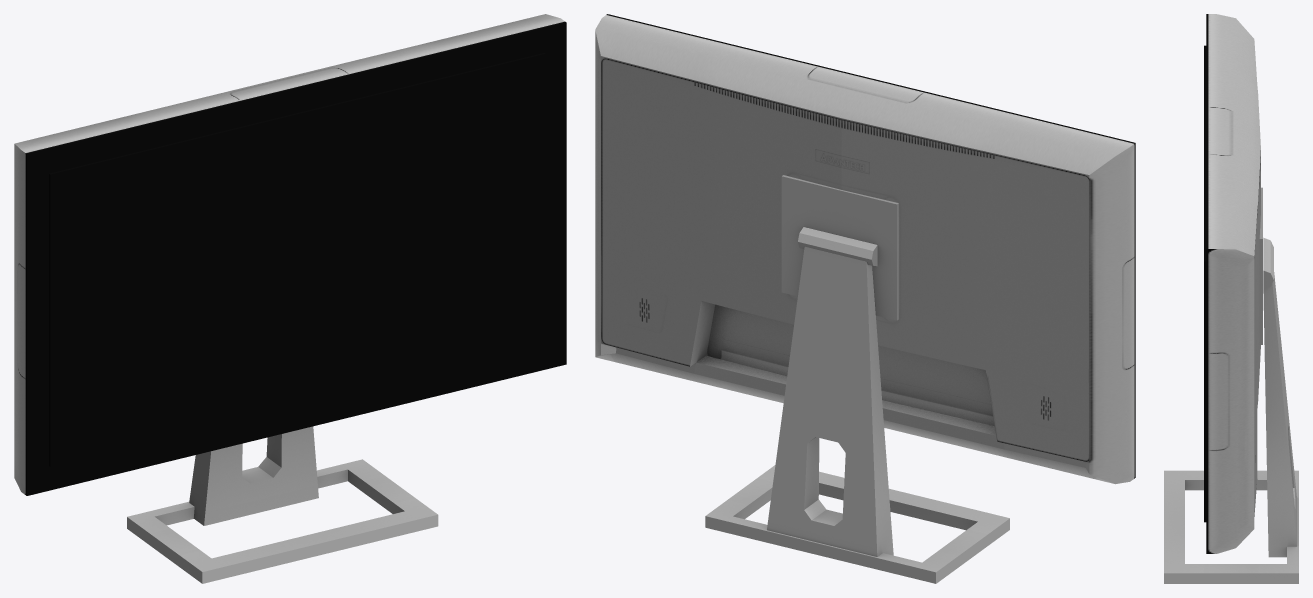
The model's file is UTC-320hst.fbx.
The picture shows the model from 3 angles, left to right: view 1: azimuth 30°, elevation 25°; view 2: azimuth 150°, elevation 25°; view 3: azimuth 270°, elevation 25°; orthographic projection. The views are drawn at different scales.
Parts seen in each view (by area): view 1: C, A, D, B; view 2: B, D, A; view 3: B, D, A, C.
Part boxes in pixels (x1,y1,x2,y2): C: [49, 53, 545, 466]; A: [25, 21, 566, 495]; D: [127, 426, 438, 583]; B: [14, 14, 564, 494]; B: [595, 15, 1134, 484]; D: [705, 175, 1009, 583]; A: [606, 14, 1135, 477]; B: [1208, 14, 1260, 553]; D: [1164, 187, 1298, 583]; A: [1206, 14, 1208, 553]; C: [1204, 45, 1206, 522].
Size of the model in its own units: 52.03 by 41.43 by 12.62.
4 materials, 2 textured.
